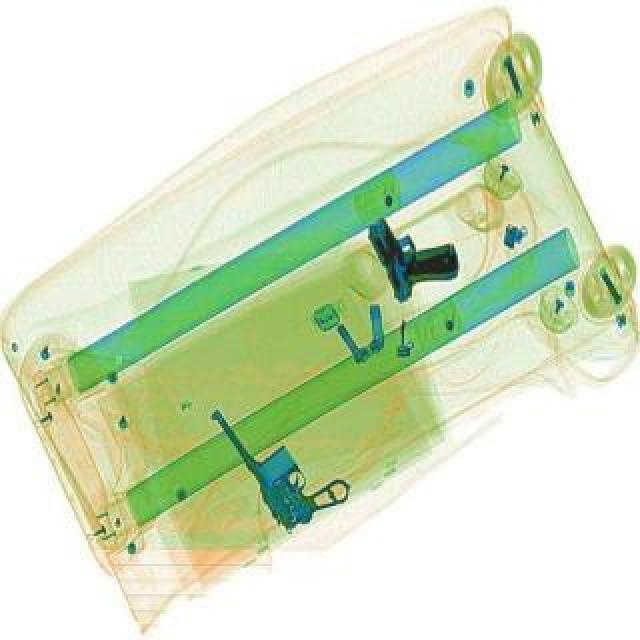gun: (202, 372, 358, 536), (360, 194, 466, 302)
